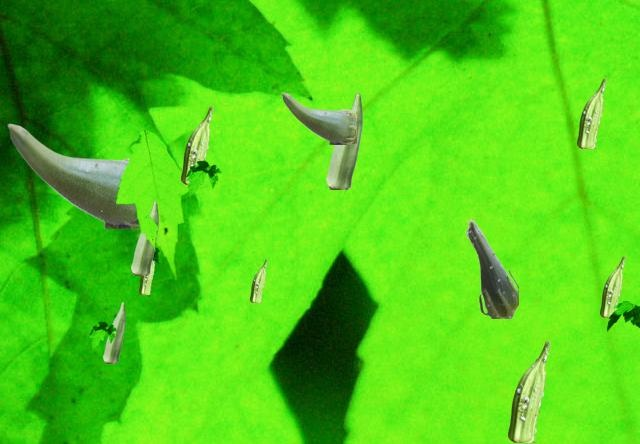okra: (7, 123, 138, 227), (465, 217, 517, 317), (508, 341, 549, 441), (281, 92, 355, 143), (326, 93, 361, 188), (181, 106, 212, 183), (577, 78, 605, 147), (131, 201, 157, 274), (600, 256, 624, 316), (103, 302, 124, 362), (250, 259, 266, 301), (139, 262, 155, 293)
